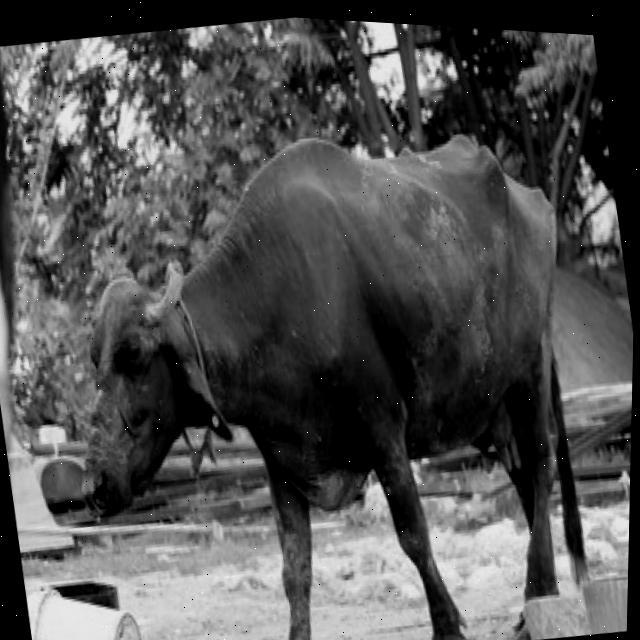Buffalo: (23, 77, 626, 640)
